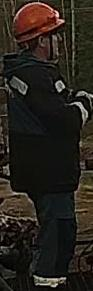gloves: (74, 91, 93, 126)
helmet: (11, 1, 65, 43)
vest: (2, 52, 83, 194)
